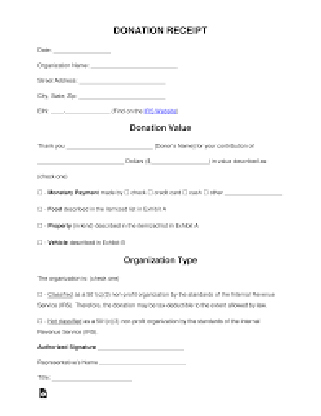checkbox: (34, 204, 44, 214), (34, 220, 44, 230), (34, 290, 44, 299), (122, 188, 132, 197), (147, 186, 155, 197), (202, 188, 210, 199), (34, 188, 44, 196), (36, 238, 44, 248), (36, 315, 44, 325), (183, 188, 189, 197)
textline: (96, 339, 188, 354), (65, 139, 155, 153), (51, 369, 139, 383), (88, 59, 181, 72), (77, 75, 170, 88), (36, 153, 126, 166), (77, 91, 170, 103), (100, 356, 189, 367), (49, 103, 114, 117), (51, 41, 114, 55), (148, 153, 210, 166), (65, 103, 113, 117), (223, 188, 284, 197), (51, 103, 64, 117)
